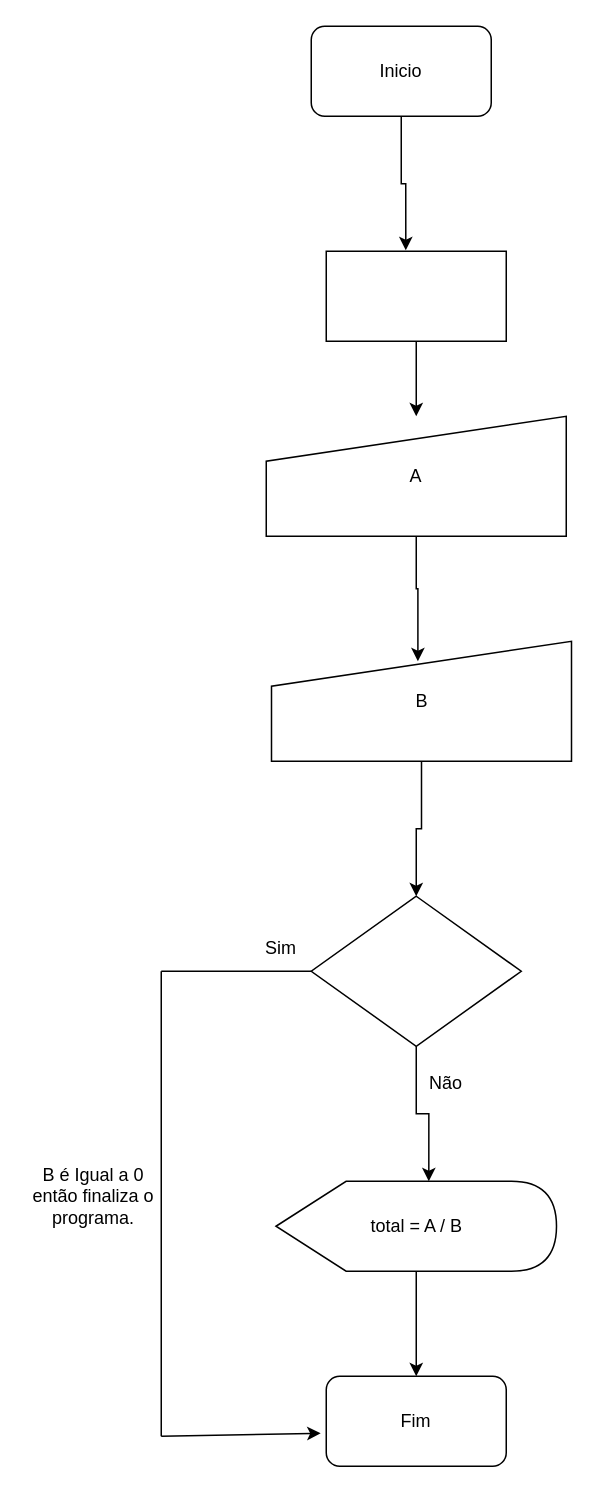
Some shapes in this 597 by 1493 pixel diagram are drawn without their labels. The centre of each missing label's shape, as x and y in pixels:
"B é igual a zero ?" belongs at point 415,970.
"var A, B, total" belongs at point 415,295.
